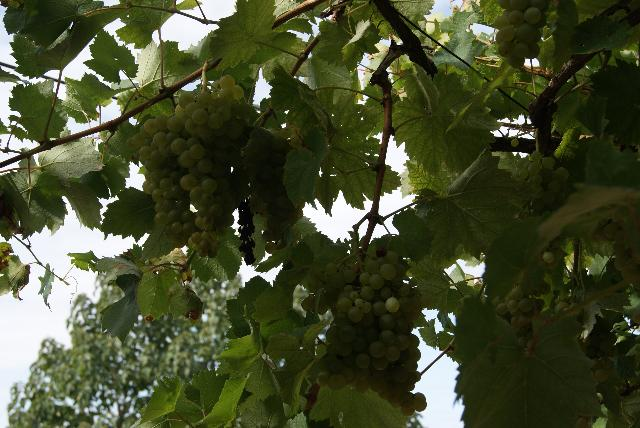grapes: (141, 75, 252, 258), (318, 251, 429, 415), (130, 115, 195, 248)
